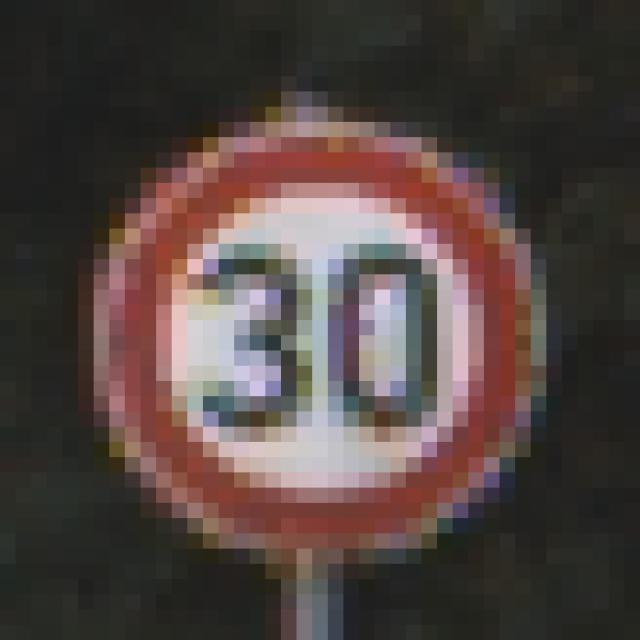Speed Limit -30-: (70, 84, 554, 556)
